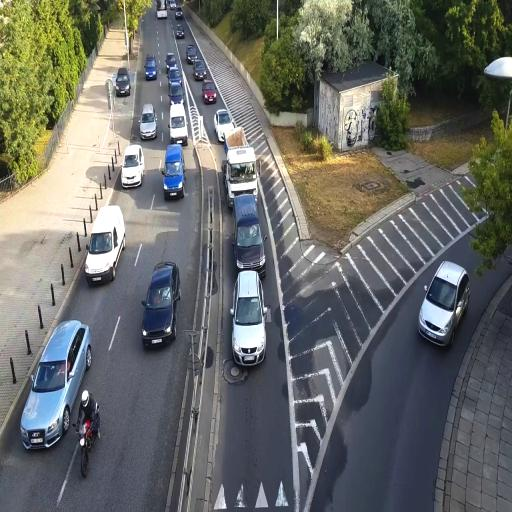vehicle: (19, 318, 93, 451), (418, 259, 470, 350), (232, 141, 266, 274), (230, 270, 268, 366), (141, 261, 181, 348), (84, 205, 126, 286), (234, 192, 266, 274), (224, 126, 258, 202), (162, 144, 185, 199), (122, 144, 144, 188), (78, 419, 93, 477), (166, 53, 184, 100), (214, 106, 234, 144), (140, 104, 158, 141), (114, 68, 131, 96), (202, 79, 217, 104), (193, 60, 207, 82), (145, 57, 158, 80)
